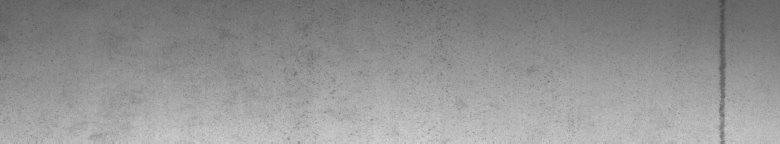hd: (715, 4, 732, 136)
